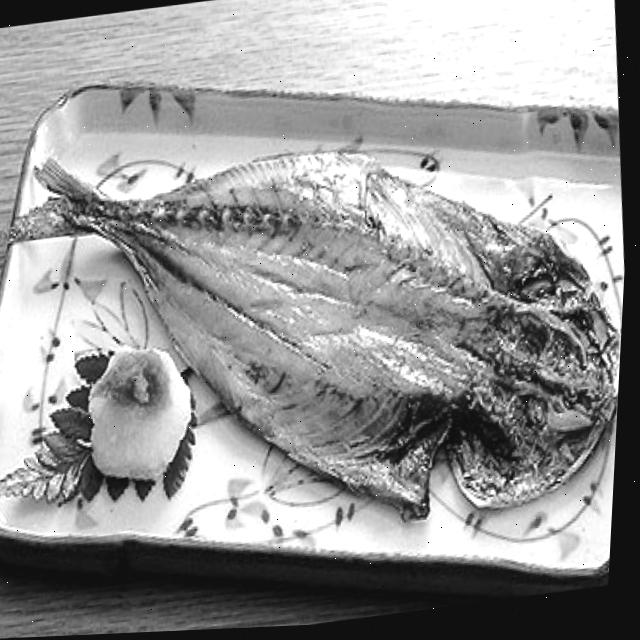熟制海鲜: (0, 95, 635, 578)
